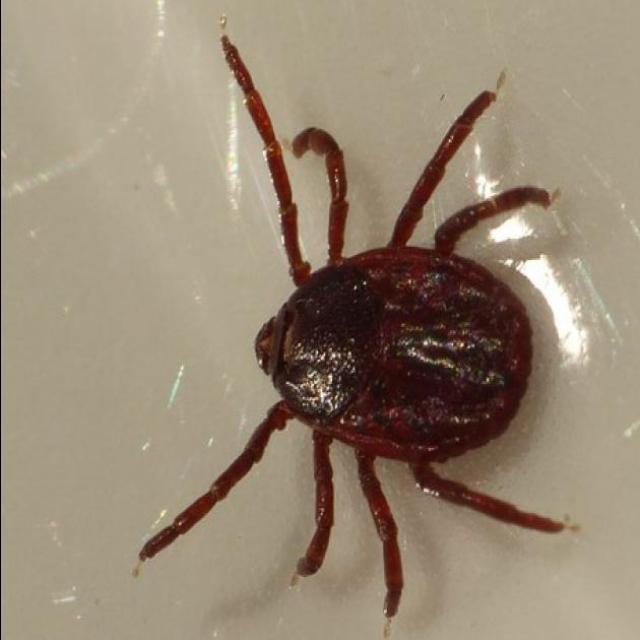Rhipicephalus Sanguineus-F: (140, 36, 566, 619)
